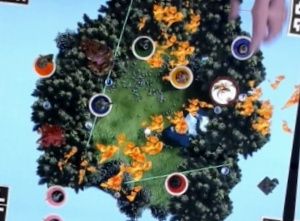blue: (86, 88, 115, 116)
green: (129, 31, 159, 62)
orange: (31, 52, 56, 79)
pink: (43, 181, 72, 209)
red: (162, 167, 191, 196)
violet: (227, 32, 256, 61)
yellow: (166, 60, 196, 89)
